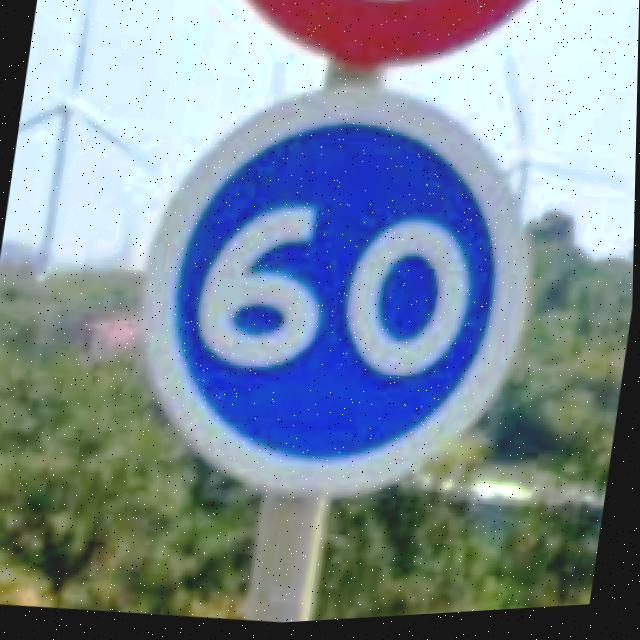min60: (109, 55, 562, 535)
